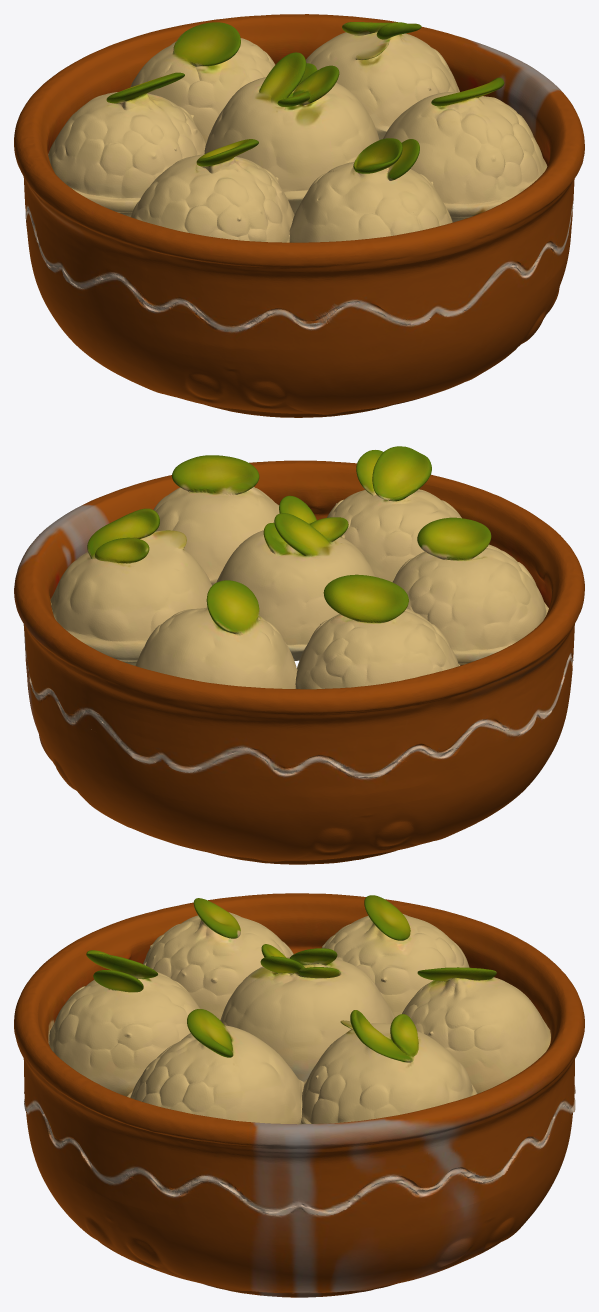
File: banglarRasogolla.glb
3 renders of one model, top to bottom at view 1: azimuth 30°, elevation 25°; view 2: azimuth 150°, elevation 25°; view 3: azimuth 270°, elevation 25°, orthographic.
Visible parts, largest first — view 1: tripo_node_a1a71f4f-2c60-4746-ad8d-61e08ec8841d; view 2: tripo_node_a1a71f4f-2c60-4746-ad8d-61e08ec8841d; view 3: tripo_node_a1a71f4f-2c60-4746-ad8d-61e08ec8841d.
Boxes of the visible parts, box(x1,y1,x2,y2) form: tripo_node_a1a71f4f-2c60-4746-ad8d-61e08ec8841d: box(14, 14, 584, 417); tripo_node_a1a71f4f-2c60-4746-ad8d-61e08ec8841d: box(14, 446, 584, 864); tripo_node_a1a71f4f-2c60-4746-ad8d-61e08ec8841d: box(14, 893, 584, 1297).
Bounding box in the file's own units: 1 × 0.5532 × 0.9983.
Materials: 1 (1 with a texture image).
